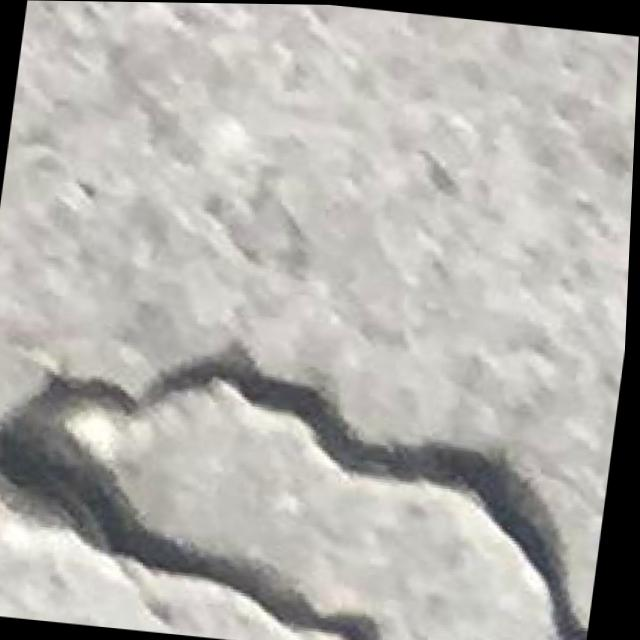Crack: (0, 321, 623, 640)
